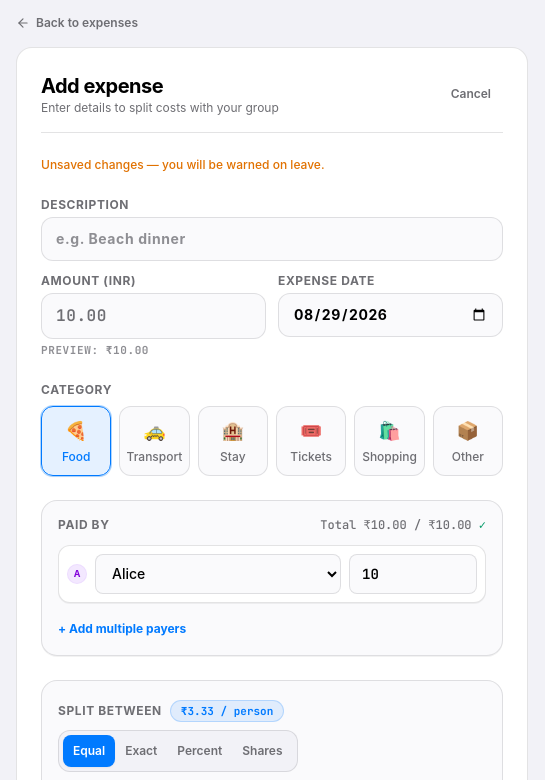
Test: ExpenseFormPage Interactive & State Machine Tests › updates single payer and split allocations reactively when amount changes
Replace the text in the field labelled "Amount (INR) Preview: ₹10.00" with "60.00" at (154, 316), box [41,293,266,339]
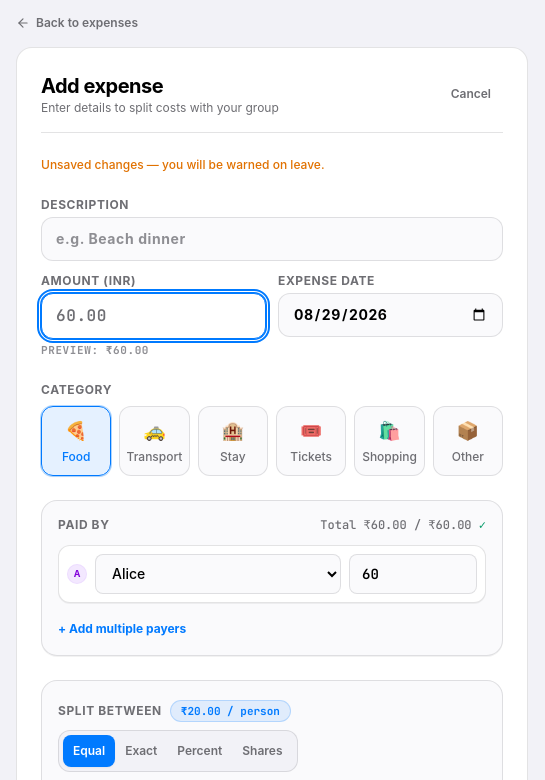
Now the text "Total ₹60.00 / ₹60.00 ✓" is shown, box [320,517,486,533]
Now the text "₹20.00 / person" is shown, box [170,700,291,722]
